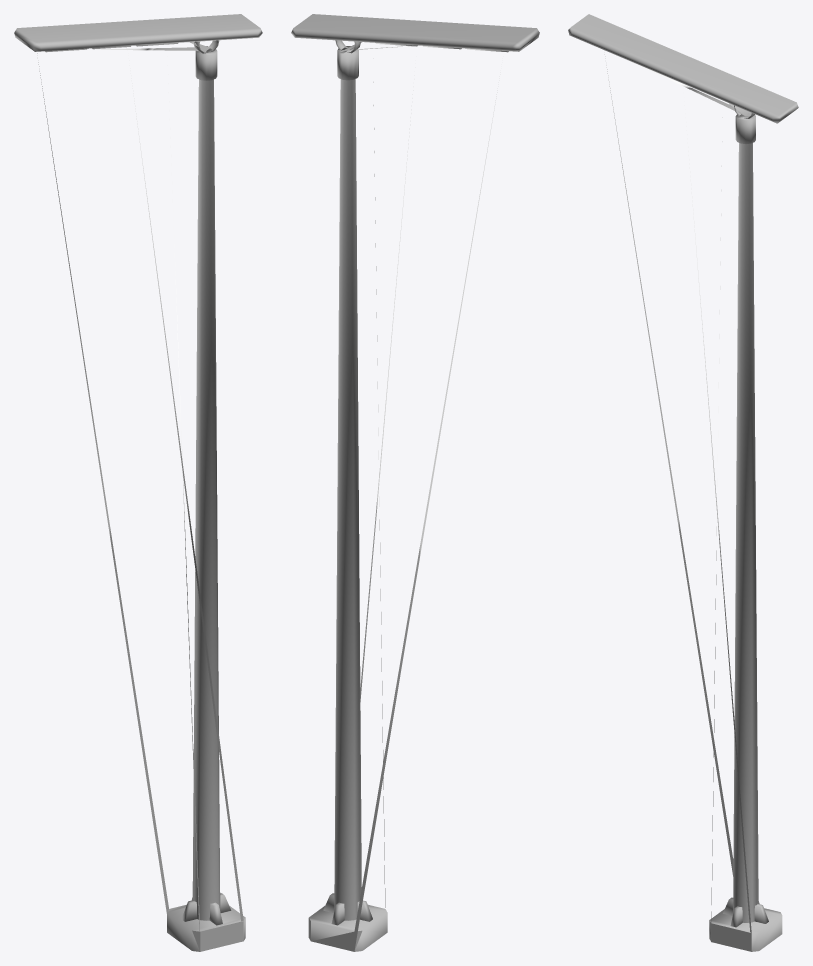
File: nc_prop_lamp_led_01.fbx
3 renders of one model, left to right at view 1: azimuth 30°, elevation 25°; view 2: azimuth 150°, elevation 25°; view 3: azimuth 330°, elevation 25°, orthographic. The views are drawn at different scales.
Visible parts, largest first — view 1: nc_prop_lamp_led_01_LOD0; view 2: nc_prop_lamp_led_01_LOD0; view 3: nc_prop_lamp_led_01_LOD0.
Part boxes in pixels (box(x1,y1,x2,y2)): nc_prop_lamp_led_01_LOD0: box(14, 14, 262, 951); nc_prop_lamp_led_01_LOD0: box(291, 14, 539, 951); nc_prop_lamp_led_01_LOD0: box(568, 14, 798, 951).
Size of what is drawn, in the model's own units: 0.876 by 3.44 by 0.2052.
Materials: 1 (1 with a texture image).
